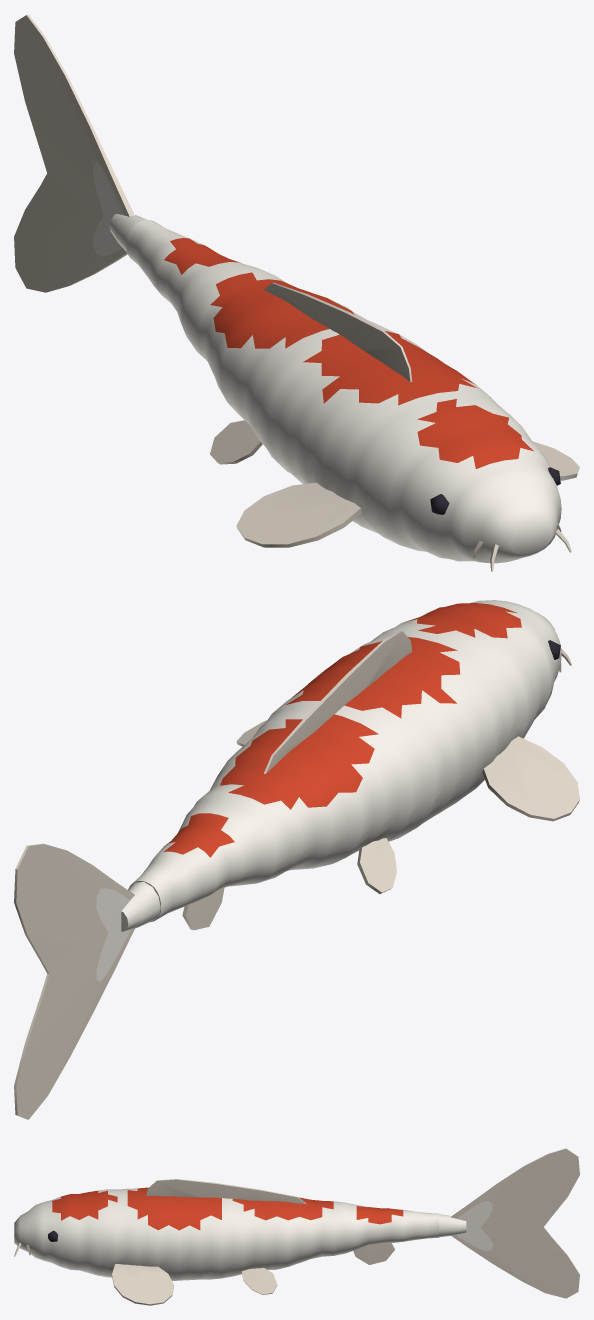
Rendered from koi_kohaku.glb.
The picture shows the model from 3 angles, top to bottom: view 1: azimuth 30°, elevation 25°; view 2: azimuth 150°, elevation 25°; view 3: azimuth 270°, elevation 25°; orthographic projection. The views are drawn at different scales.
Parts seen in each view (by area): view 1: body, tail; view 2: body, tail; view 3: body, tail.
Part boxes in pixels (box(x1,y1,x2,y2)): body: box(126, 220, 579, 571); tail: box(14, 14, 147, 292); body: box(128, 600, 579, 930); tail: box(14, 843, 160, 1119); body: box(14, 1179, 438, 1305); tail: box(439, 1148, 579, 1298).
Bounding box in the file's own units: 0.1362 × 0.109 × 0.3733.
